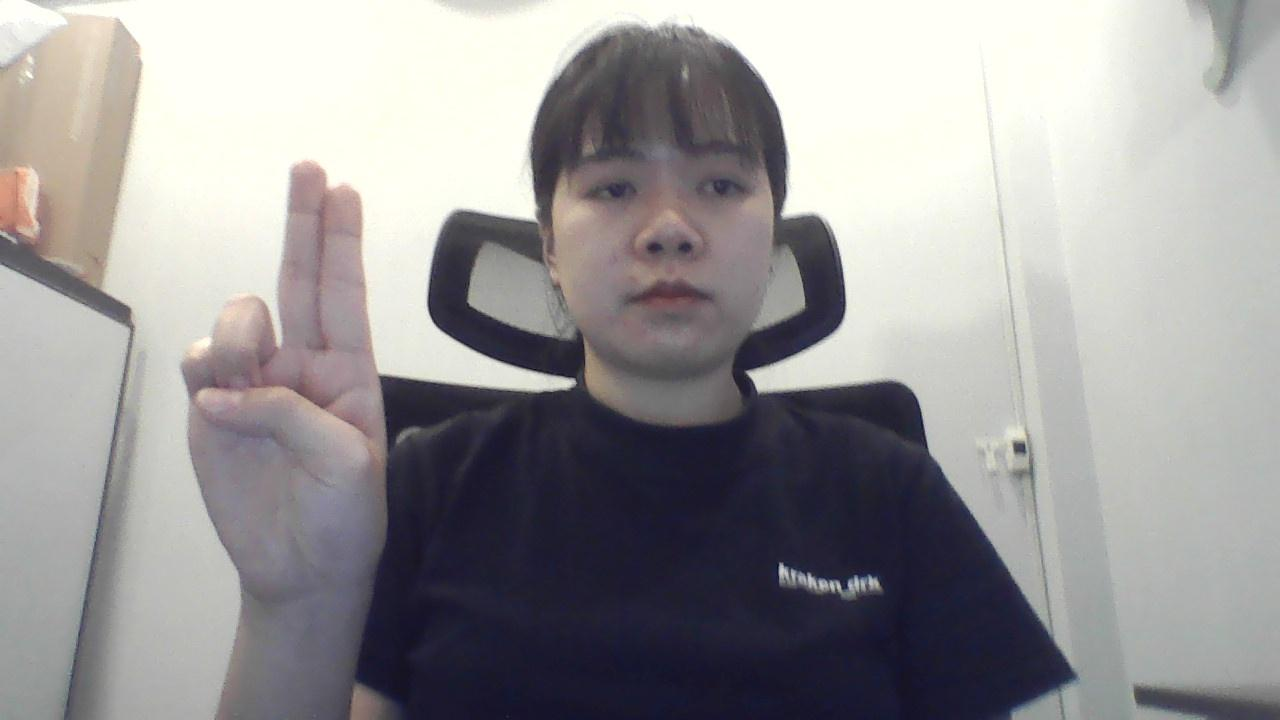U: (174, 154, 394, 637)
